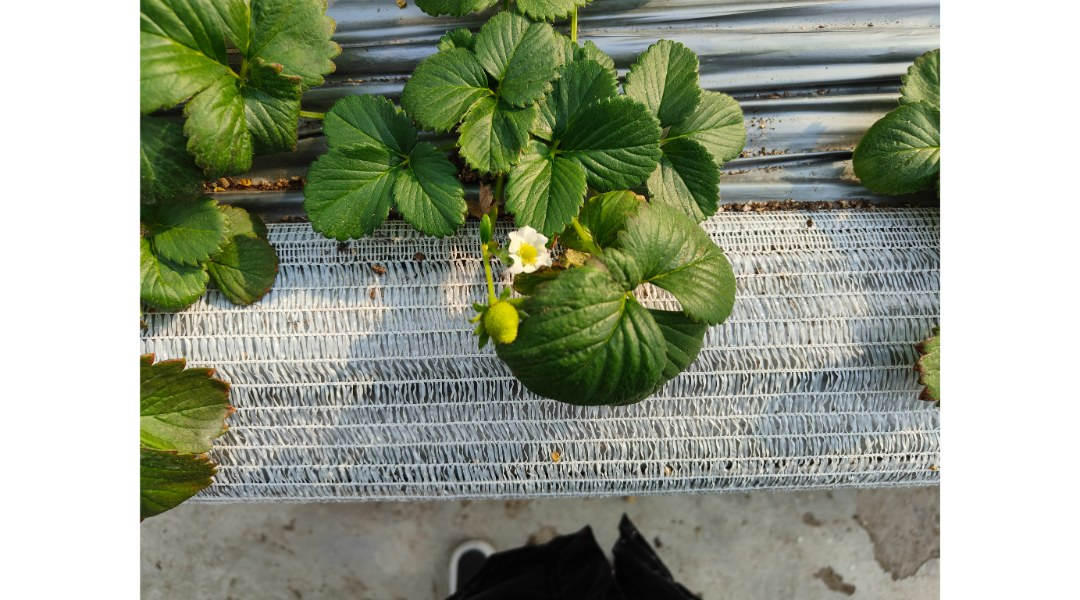berry: (469, 299, 521, 353)
flower: (500, 213, 558, 276)
strain: (481, 251, 498, 301)
